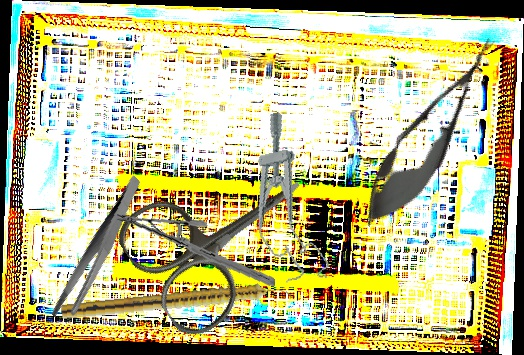Dressing Forceps: (24, 174, 173, 327)
Handpiece: (60, 279, 293, 325)
Iris Scissors: (109, 127, 339, 345)
Micro Scissor: (345, 21, 517, 243)
Needle Holder: (116, 197, 276, 302)
Speculum: (233, 108, 333, 291)
